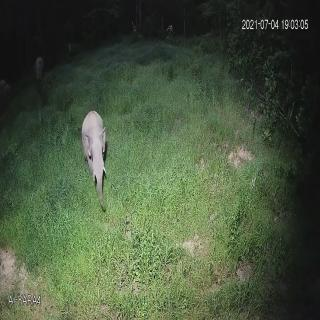Elephant: (80, 105, 116, 213)
